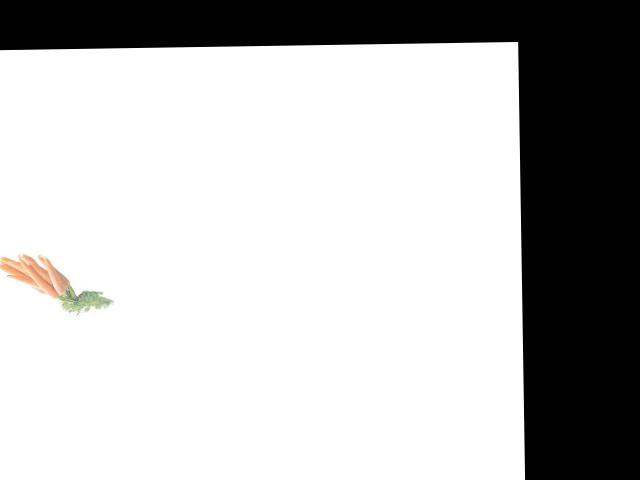carrot: (46, 241, 71, 291)
